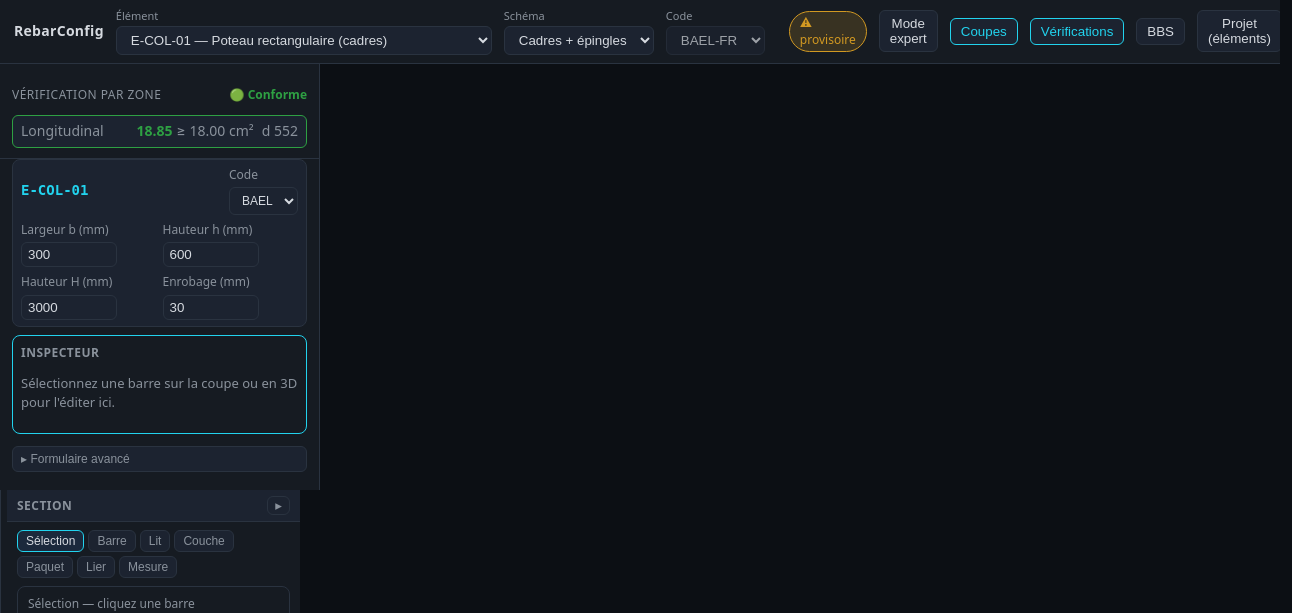
Test: v1.0.6 U3 — contextual inspector + unified selection › defaults DRAWING-FIRST (form collapsed) and the advanced tabbed form toggles on/off (complete fallback)
Expected: the message "Vérification par zone 🟢 Conforme Longitudinal 18.85 ≥ 18.00 cm² d 552" is shown, [0,76,319,159]
Expected: the element with class "inspector" is shown, [12,335,307,434]
Click the button with class "advanced-toggle".
click(80, 459)  # box [12,446,307,472]
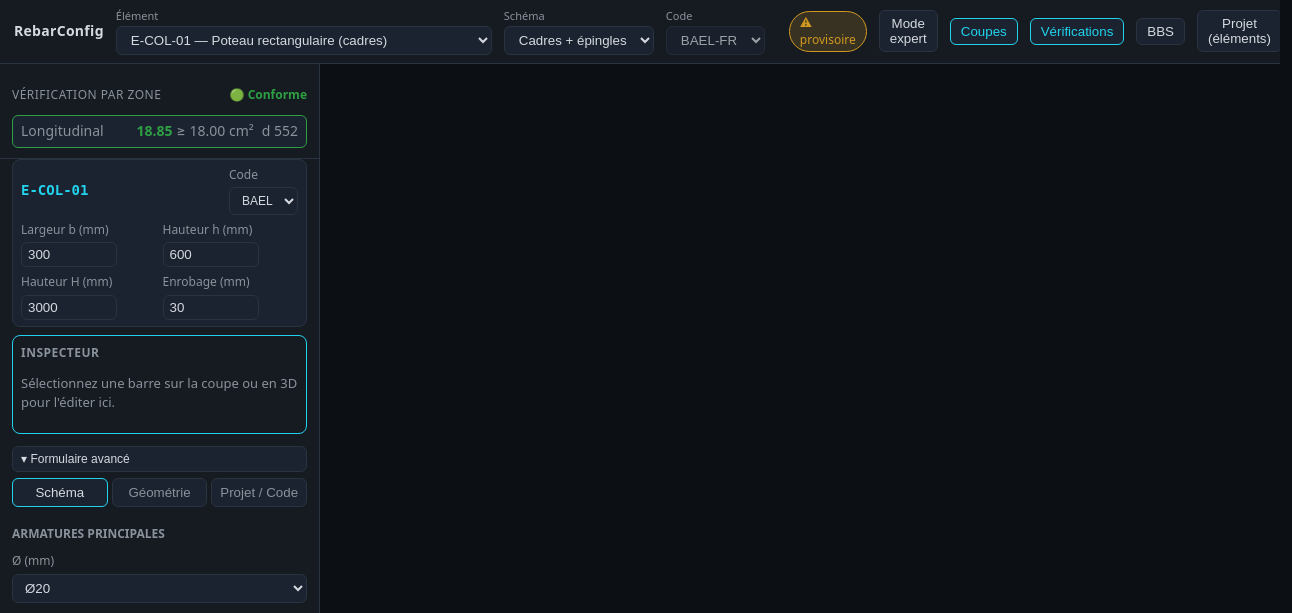
Now the navigation bar is shown, box [12,478,307,507]
Click the button with class "advanced-toggle".
click(80, 459)  # box [12,446,307,472]
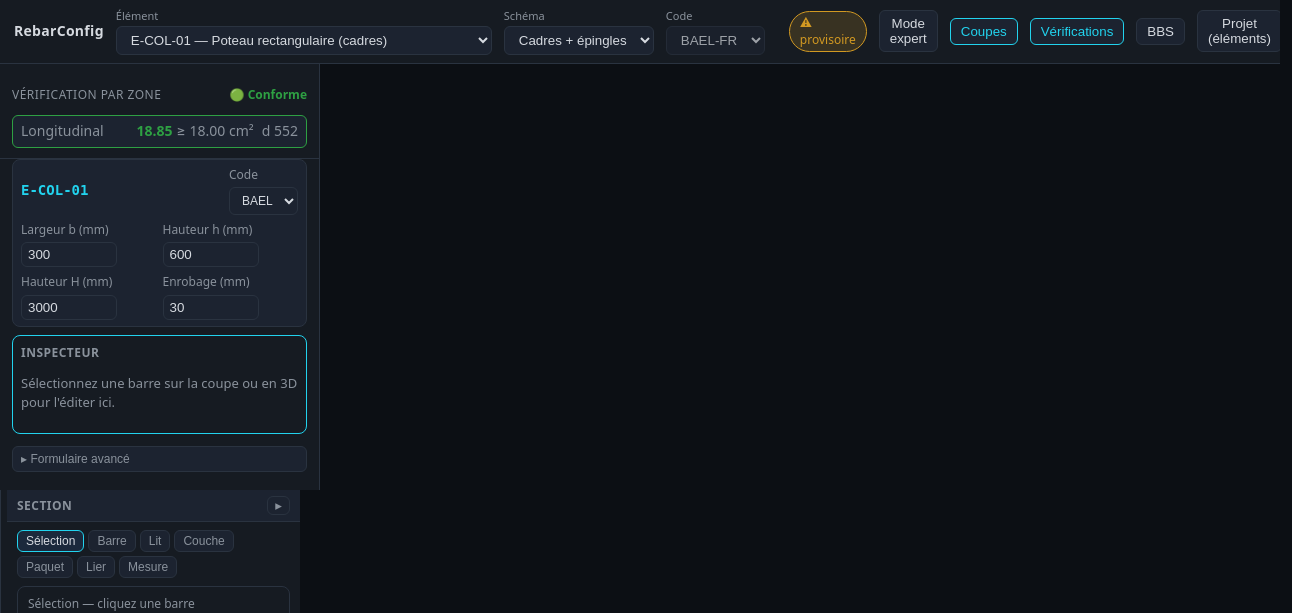
Now the navigation bar is gone
